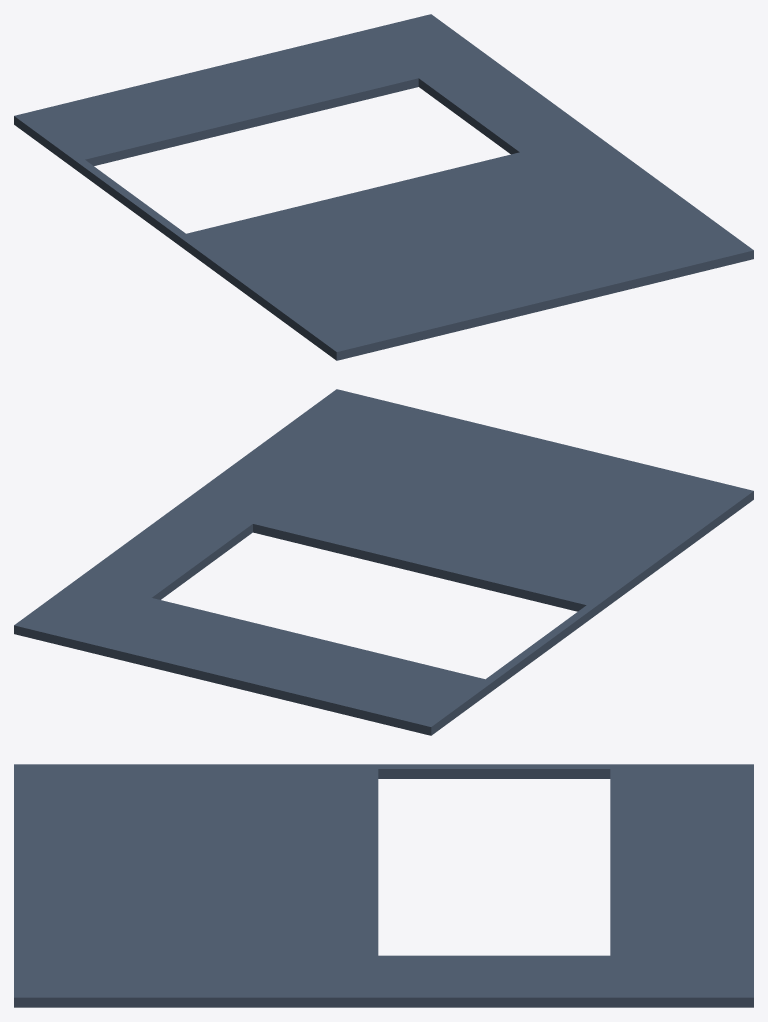
The model's file is floor_001_l_old_core_floor_08.obj.
3 renders of one model, top to bottom at view 1: azimuth 30°, elevation 25°; view 2: azimuth 150°, elevation 25°; view 3: azimuth 270°, elevation 25°, orthographic. The views are drawn at different scales.
Visible parts, largest first — view 1: Floor_001_l_old_core_floor_08; view 2: Floor_001_l_old_core_floor_08; view 3: Floor_001_l_old_core_floor_08.
Part boxes in pixels (x1,y1,x2,y2): Floor_001_l_old_core_floor_08: [14, 14, 753, 360]; Floor_001_l_old_core_floor_08: [14, 389, 753, 735]; Floor_001_l_old_core_floor_08: [14, 764, 753, 1007].
Size of the model in its own units: 10 by 0.2 by 13.4.
